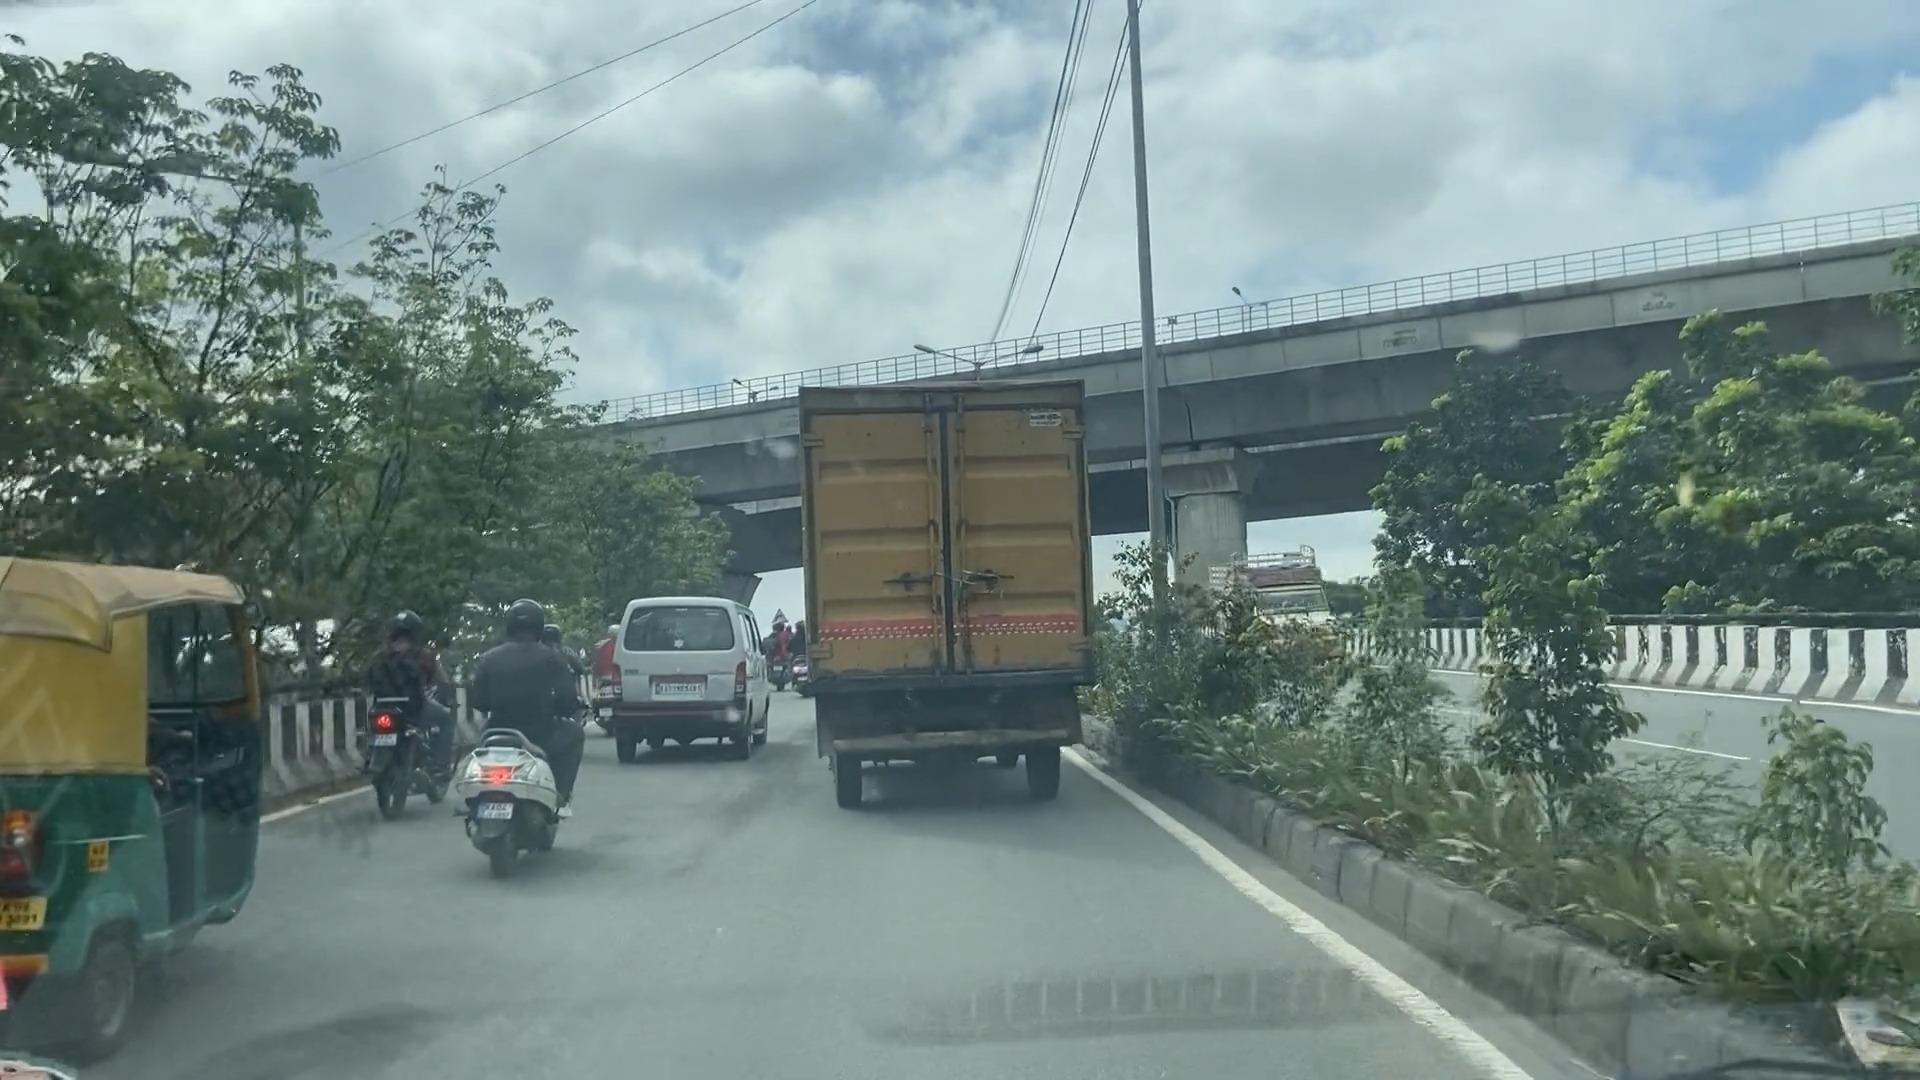HMV: (800, 386, 1088, 799)
LMV: (0, 563, 266, 1029), (463, 596, 589, 876), (607, 576, 760, 750), (364, 617, 433, 802)
